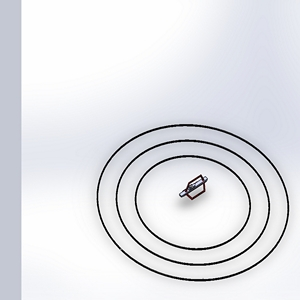circle: (90, 116, 296, 290)
submarine: (173, 172, 216, 209)
